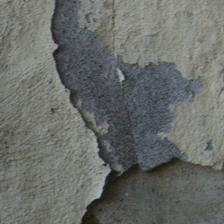Crack: (4, 67, 114, 157), (0, 96, 177, 126)
